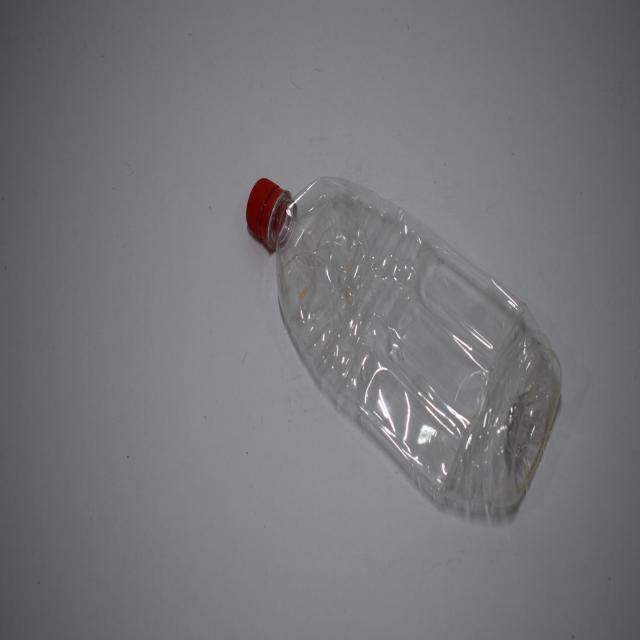empty: (246, 177, 561, 512)
